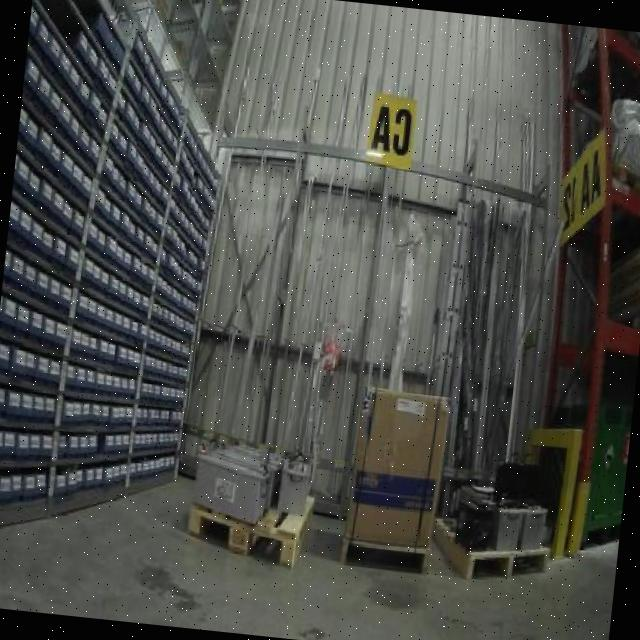pallet: (173, 482, 319, 574), (450, 529, 560, 595)
